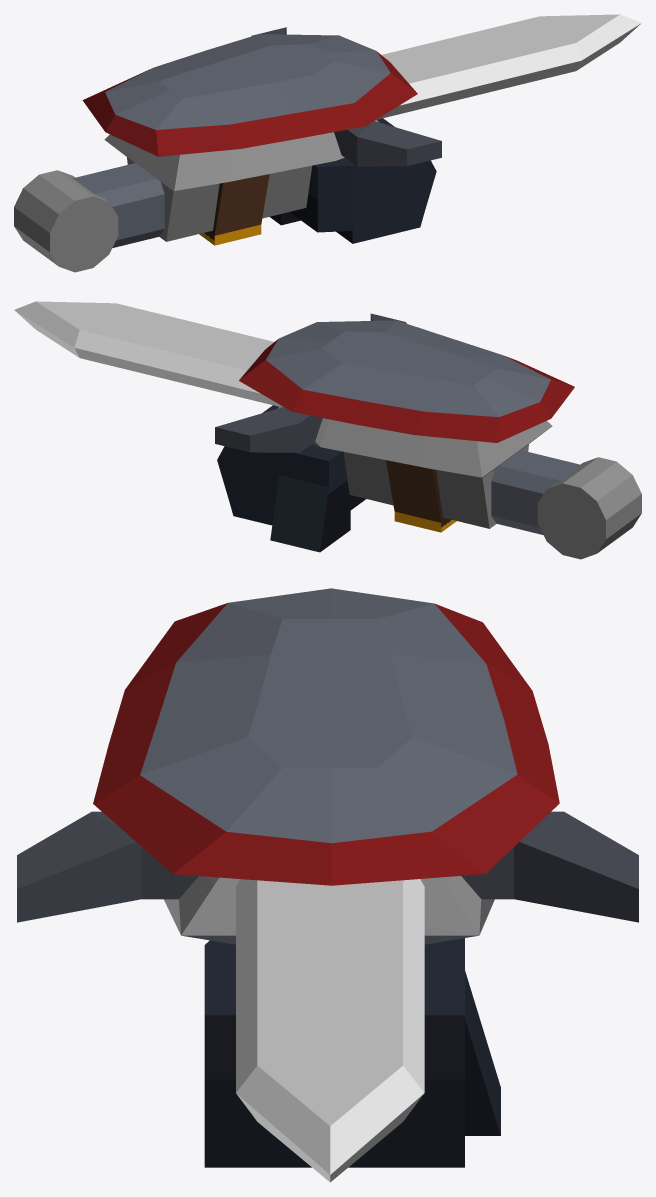
File: SquireRightArm.obj
3 views of the same model, one above another, from view 1: azimuth 30°, elevation 25°; view 2: azimuth 150°, elevation 25°; view 3: azimuth 270°, elevation 25° (orthographic). The views are drawn at different scales.
Parts seen in each view (by area): view 1: Forearm, cuboid, cylinder, Arm; view 2: Forearm, cuboid, cylinder, Arm; view 3: Forearm, cuboid.
Boxes of the visible parts, <box> form: Forearm: <box>82,14,641,245</box>; cuboid: <box>269,118,436,243</box>; cylinder: <box>14,170,118,272</box>; Arm: <box>73,163,164,247</box>; Forearm: <box>14,301,574,532</box>; cuboid: <box>217,405,365,552</box>; cylinder: <box>537,457,641,559</box>; Arm: <box>491,450,582,534</box>; Forearm: <box>17,588,638,1182</box>; cuboid: <box>204,938,500,1167</box>.
Size of the model in its own units: 1.23 by 0.3344 by 0.5409.
Materials: 1 (1 with a texture image).
